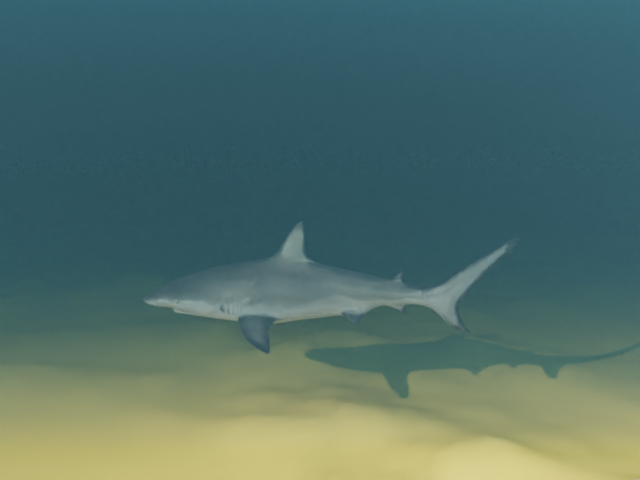Carribean Shark.001: (142, 221, 519, 354)
